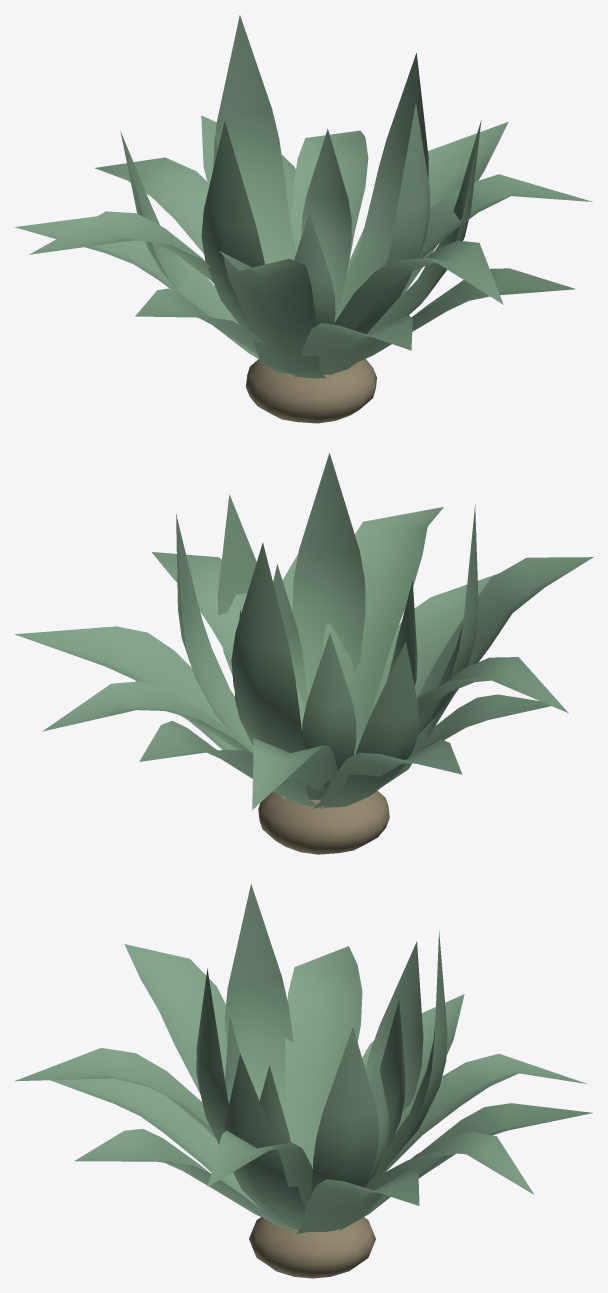
File: Plant_01.fbx
3 views of the same model, one above another, from view 1: azimuth 30°, elevation 25°; view 2: azimuth 150°, elevation 25°; view 3: azimuth 270°, elevation 25° (orthographic). The views are drawn at different scales.
Visible parts, largest first — view 1: Roundcube.001; view 2: Roundcube.001; view 3: Roundcube.001.
Part boxes in pixels (x1,y1,x2,y2): Roundcube.001: [14, 15, 592, 423]; Roundcube.001: [15, 453, 593, 854]; Roundcube.001: [14, 883, 592, 1278].
Bounding box in the file's own units: 94.82 × 61.51 × 96.39.
